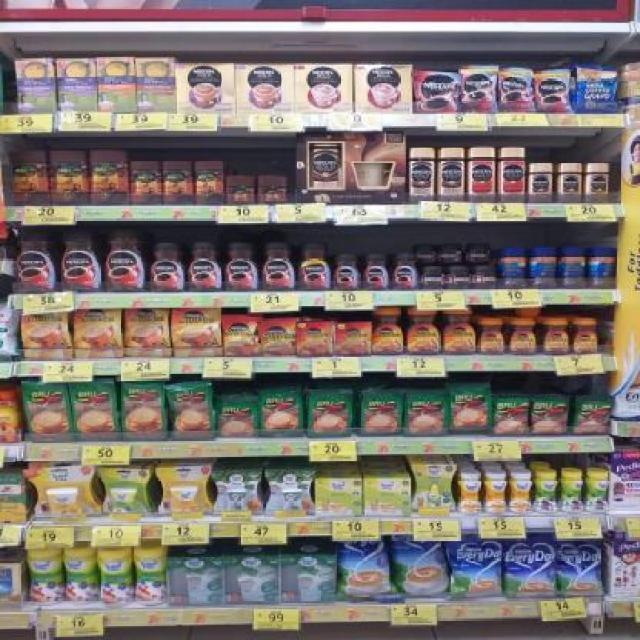Coffee: (16, 229, 58, 294), (105, 229, 146, 294), (60, 229, 102, 292), (73, 309, 124, 358), (173, 308, 222, 355), (23, 313, 70, 358), (127, 309, 171, 356), (414, 72, 457, 113), (224, 243, 258, 292), (188, 243, 222, 292), (150, 243, 184, 292), (261, 243, 294, 292), (297, 243, 331, 290), (500, 68, 534, 112), (462, 66, 494, 112), (406, 309, 438, 355), (443, 310, 476, 354), (372, 310, 403, 356), (411, 149, 436, 204), (534, 73, 568, 113), (224, 317, 258, 357), (439, 148, 464, 201), (260, 319, 294, 356), (331, 255, 361, 291), (391, 254, 420, 290), (362, 255, 390, 292), (479, 318, 506, 354), (573, 318, 599, 354), (543, 318, 568, 355), (530, 163, 553, 203), (510, 319, 536, 354), (558, 164, 580, 204), (590, 163, 609, 203), (446, 266, 472, 289), (419, 266, 444, 288), (472, 266, 496, 288), (466, 244, 492, 264), (440, 244, 462, 263), (416, 246, 438, 264)
